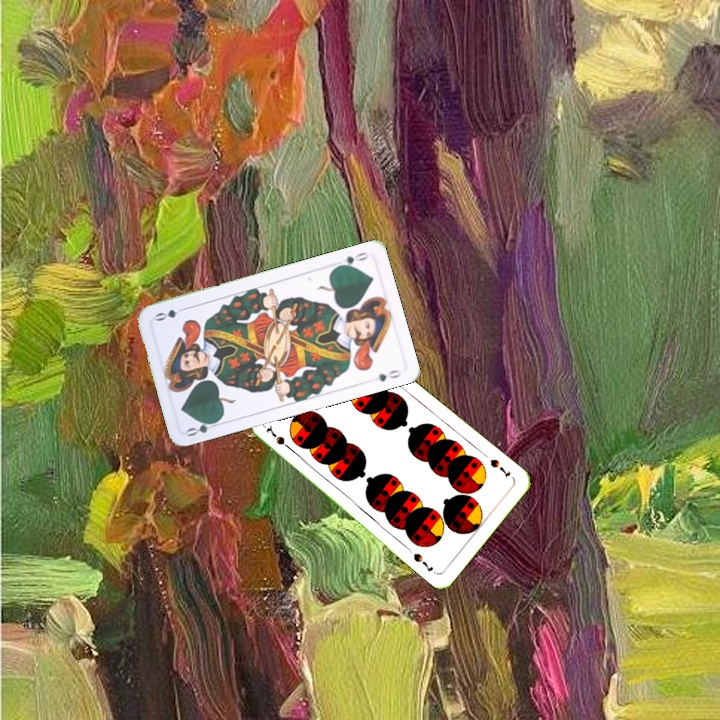GO: (183, 416, 223, 439), (332, 248, 371, 270)
S7: (262, 423, 296, 454), (486, 455, 513, 480)
